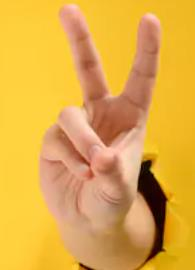front: (33, 2, 165, 232)
